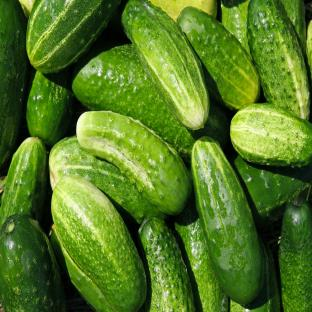Cucumber: (73, 43, 228, 162), (52, 175, 146, 311), (192, 137, 264, 304), (77, 111, 191, 214), (122, 0, 209, 130), (49, 136, 167, 224), (178, 7, 260, 110), (26, 0, 120, 73), (0, 214, 66, 311), (175, 191, 228, 311), (231, 156, 311, 229), (138, 217, 195, 311), (51, 226, 113, 311), (230, 104, 311, 167), (0, 138, 47, 224), (230, 237, 280, 311), (279, 197, 311, 311), (27, 69, 73, 145), (221, 0, 249, 53), (306, 21, 311, 86)
